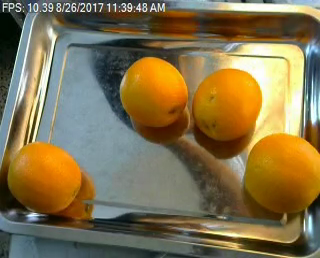Orange: (244, 134, 320, 213), (8, 142, 82, 213), (192, 67, 262, 141), (119, 56, 187, 129)
